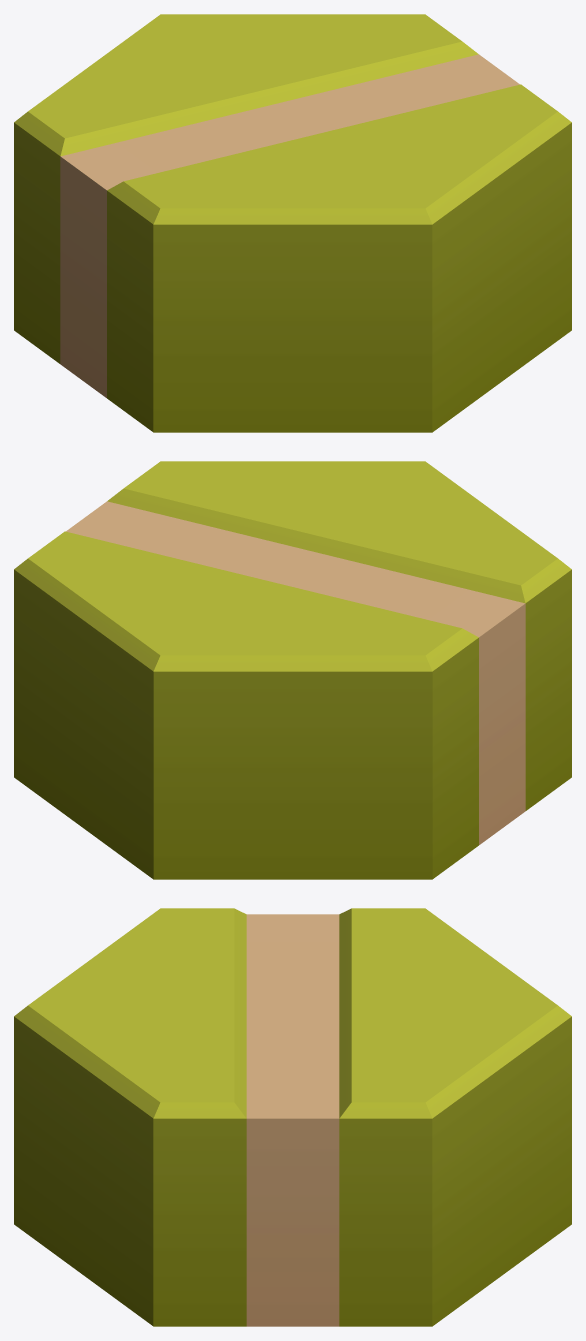
Rendered from kaykit-medieval-hexagon-pack-hex-road-a.glb.
3 views of the same model, one above another, from view 1: azimuth 30°, elevation 25°; view 2: azimuth 150°, elevation 25°; view 3: azimuth 270°, elevation 25° (orthographic).
Visible parts, largest first — view 1: hex_road_A; view 2: hex_road_A; view 3: hex_road_A.
Part boxes in pixels (bbox=[...]): hex_road_A: bbox=[14, 14, 571, 432]; hex_road_A: bbox=[14, 461, 571, 879]; hex_road_A: bbox=[14, 908, 571, 1326].
Size of the model in its own units: 2 by 1 by 2.31.
Materials: 1 (1 with a texture image).
